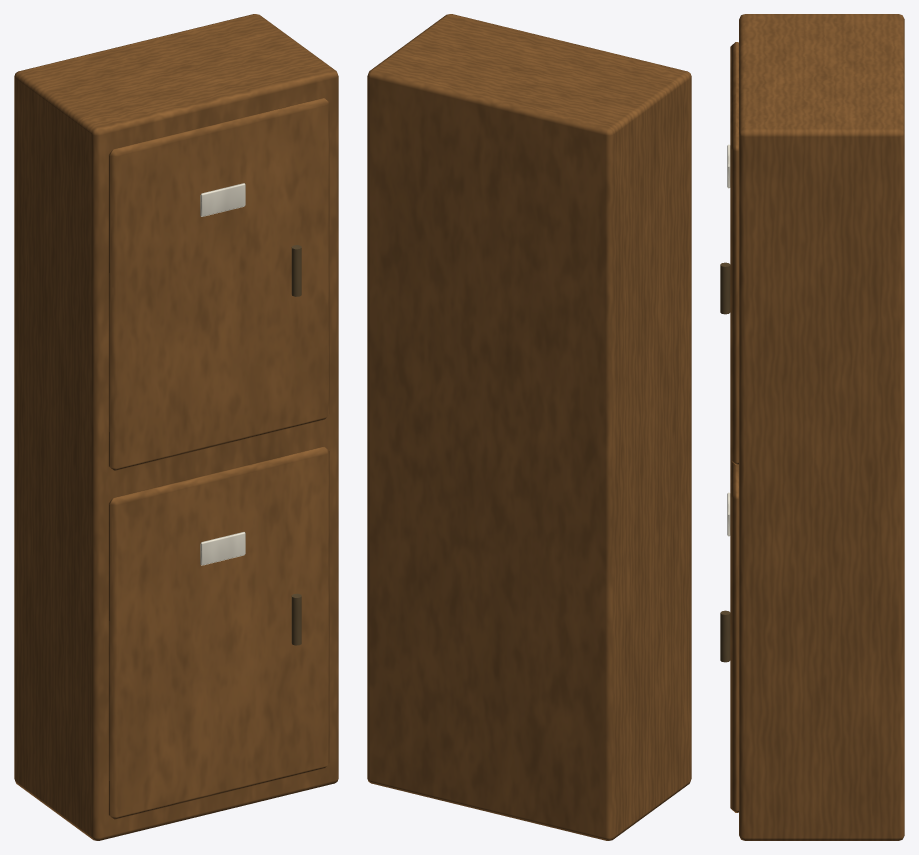
The model's file is Furn_Locker.fbx.
3 views of the same model, side by side, from view 1: azimuth 30°, elevation 25°; view 2: azimuth 150°, elevation 25°; view 3: azimuth 270°, elevation 25° (orthographic).
Visible parts, largest first — view 1: Furn_Locker_Mesh; view 2: Furn_Locker_Mesh; view 3: Furn_Locker_Mesh.
Boxes of the visible parts, x1,y1,x2,y2 form: Furn_Locker_Mesh: (14, 14, 338, 840); Furn_Locker_Mesh: (367, 14, 691, 840); Furn_Locker_Mesh: (720, 14, 904, 840).
Bounding box in the file's own units: 0.65 × 1.8 × 0.423.
3 materials, 3 textured.
